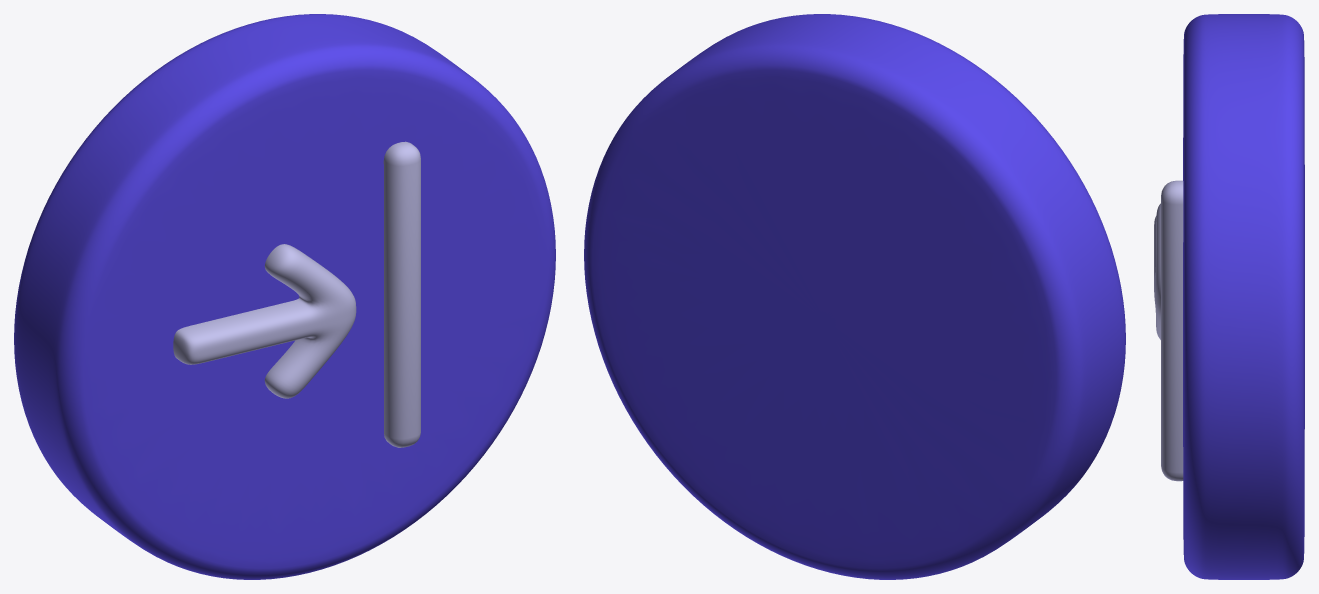
File: open-sidebar-animated-3d-icon-1582413647858.glb
3 renders of one model, left to right at view 1: azimuth 30°, elevation 25°; view 2: azimuth 150°, elevation 25°; view 3: azimuth 270°, elevation 25°, orthographic.
Visible parts, largest first — view 1: Base.009, Arrow Base.007, Cube.002; view 2: Base.009; view 3: Base.009, Cube.002, Arrow Base.007.
Part boxes in pixels (left/top/right/bottom): Base.009: left=14, top=14, right=555, bottom=579; Arrow Base.007: left=173, top=244, right=356, bottom=398; Cube.002: left=383, top=141, right=420, bottom=447; Base.009: left=584, top=14, right=1125, bottom=579; Base.009: left=1183, top=14, right=1304, bottom=579; Cube.002: left=1161, top=180, right=1183, bottom=481; Arrow Base.007: left=1154, top=203, right=1160, bottom=339.
Size of the model in its own units: 1.99 by 1.99 by 0.5297.
